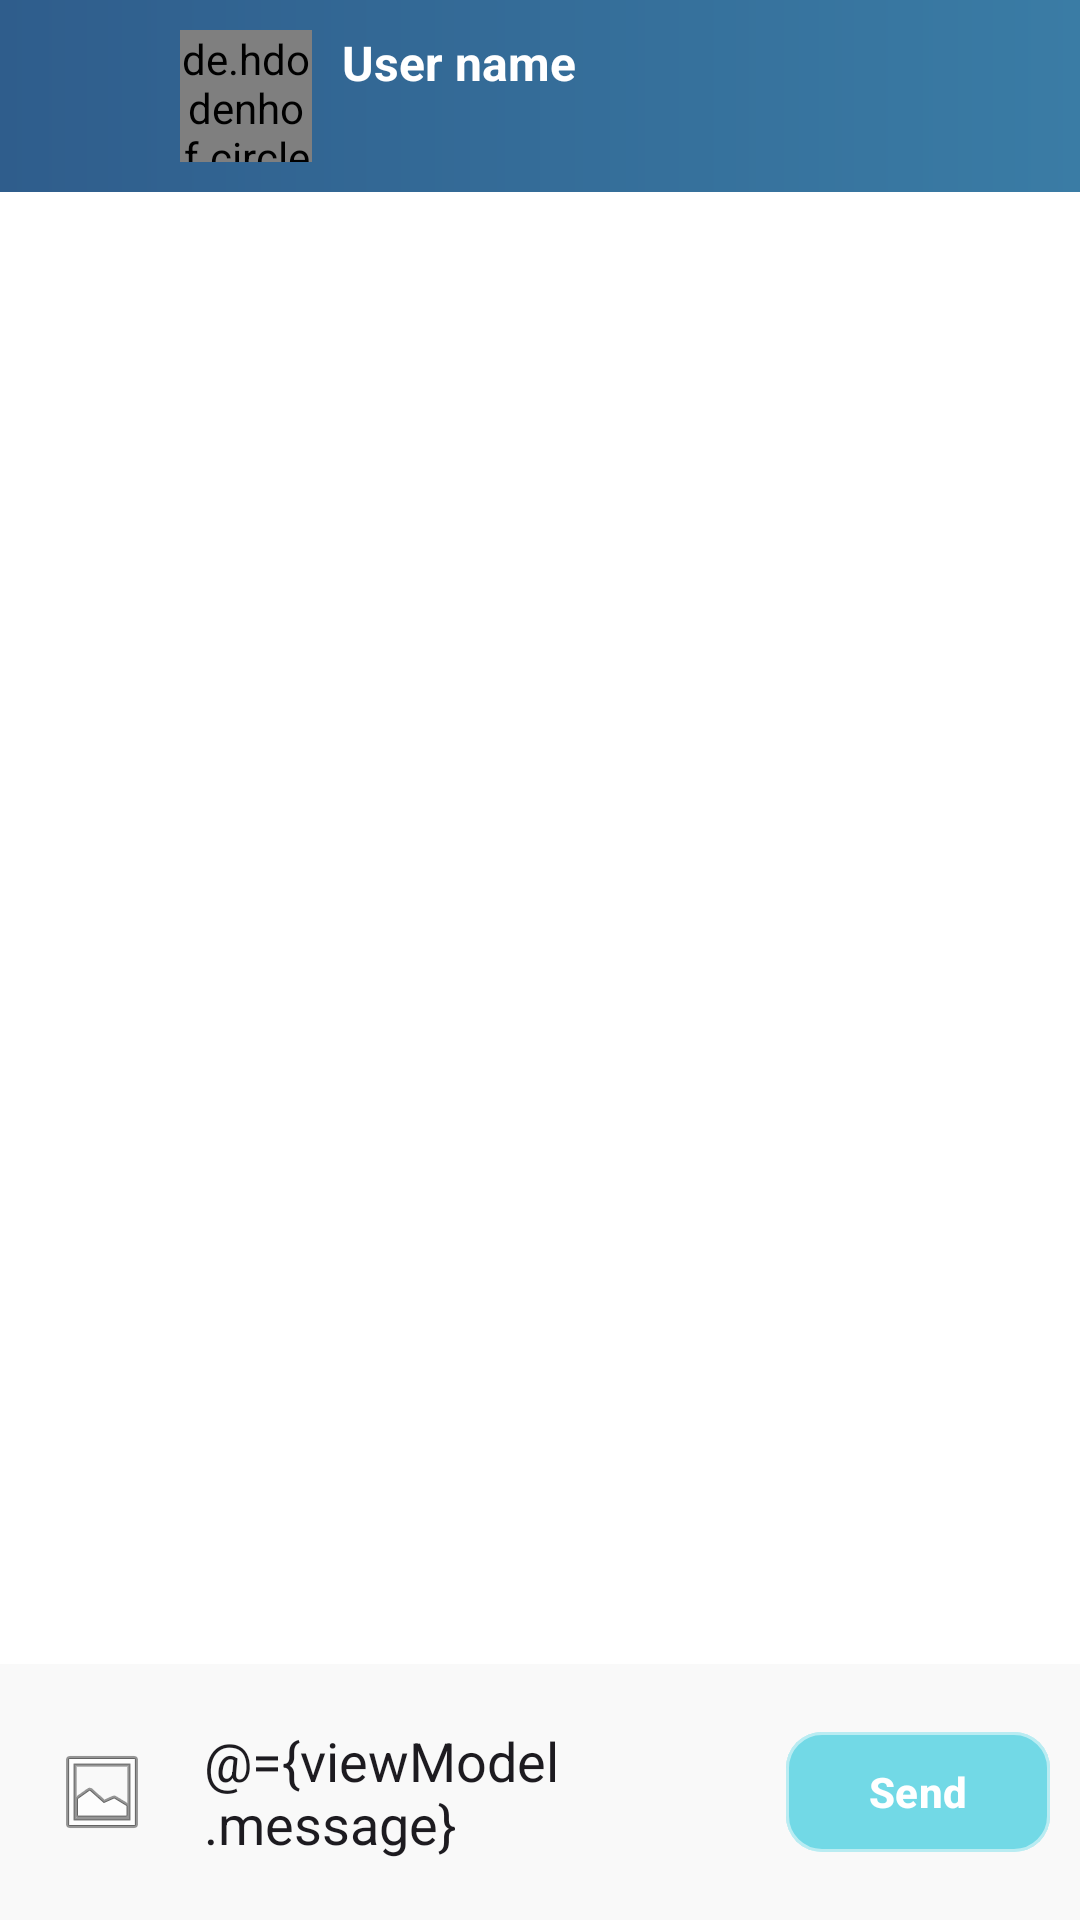

Icons on this 1080x1920 Android screen, each with the point to tap as [x,y]:
Attach image: [102,1792]
